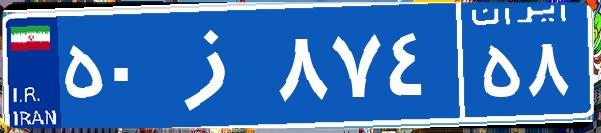0: (110, 28, 158, 105)
4: (385, 28, 445, 110)
5: (57, 26, 110, 107), (475, 38, 525, 113)
7: (330, 28, 385, 110)
8: (273, 28, 330, 110), (525, 38, 570, 115)
ز: (158, 15, 273, 115)
